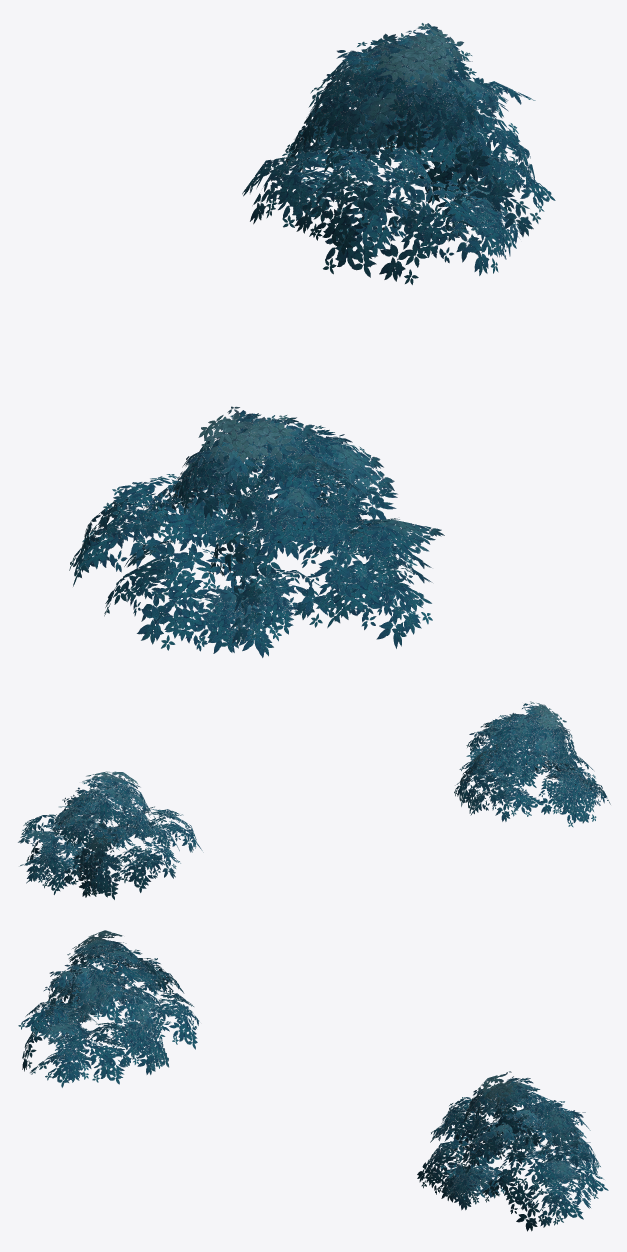
Rendered from Area11_13.FBX.
3 renders of one model, top to bottom at view 1: azimuth 30°, elevation 25°; view 2: azimuth 150°, elevation 25°; view 3: azimuth 270°, elevation 25°, orthographic. The views are drawn at different scales.
Parts seen in each view (by area): view 1: Area11_13; view 2: Area11_13; view 3: Area11_13.
Boxes of the visible parts, bbox=[...] form: Area11_13: bbox=[69, 23, 555, 657]; Area11_13: bbox=[18, 701, 610, 899]; Area11_13: bbox=[18, 930, 608, 1231].
Bounding box in the file's own units: 4581 × 1152 × 5102.
